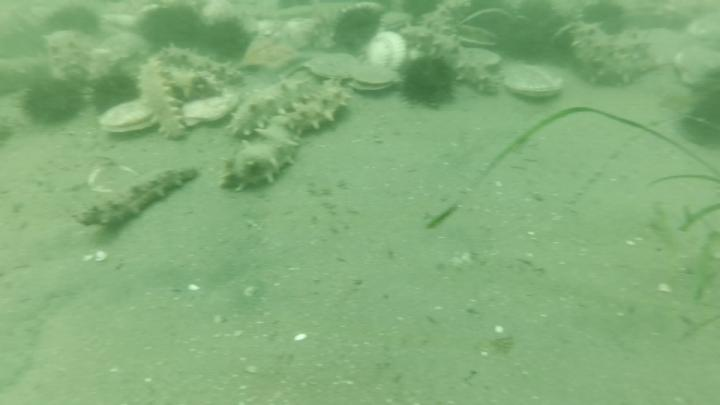echinus: (18, 77, 87, 129), (397, 55, 457, 109), (198, 17, 257, 65), (141, 5, 202, 49), (678, 90, 720, 150), (331, 5, 385, 51), (86, 70, 142, 112), (44, 4, 103, 36), (582, 1, 627, 37), (519, 1, 556, 24), (403, 1, 441, 19), (469, 1, 506, 17)
holothurian: (219, 83, 348, 196), (72, 165, 200, 236), (401, 25, 502, 98), (223, 74, 320, 140), (568, 23, 657, 88), (136, 56, 190, 143), (164, 46, 245, 83), (160, 65, 227, 97), (48, 31, 87, 79)
scallop: (504, 66, 568, 103), (632, 29, 693, 67), (181, 93, 241, 130), (98, 99, 158, 135), (672, 46, 720, 90), (366, 31, 409, 71), (305, 52, 362, 82), (347, 70, 400, 94), (686, 10, 720, 45), (463, 46, 505, 73)
